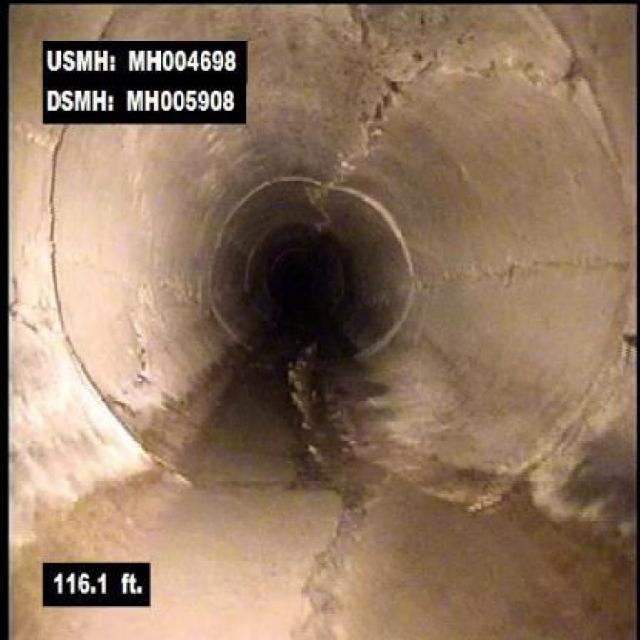Buckling: (306, 18, 466, 156)
Crack: (277, 488, 392, 609), (88, 254, 172, 409), (434, 249, 618, 291), (8, 265, 49, 352)
